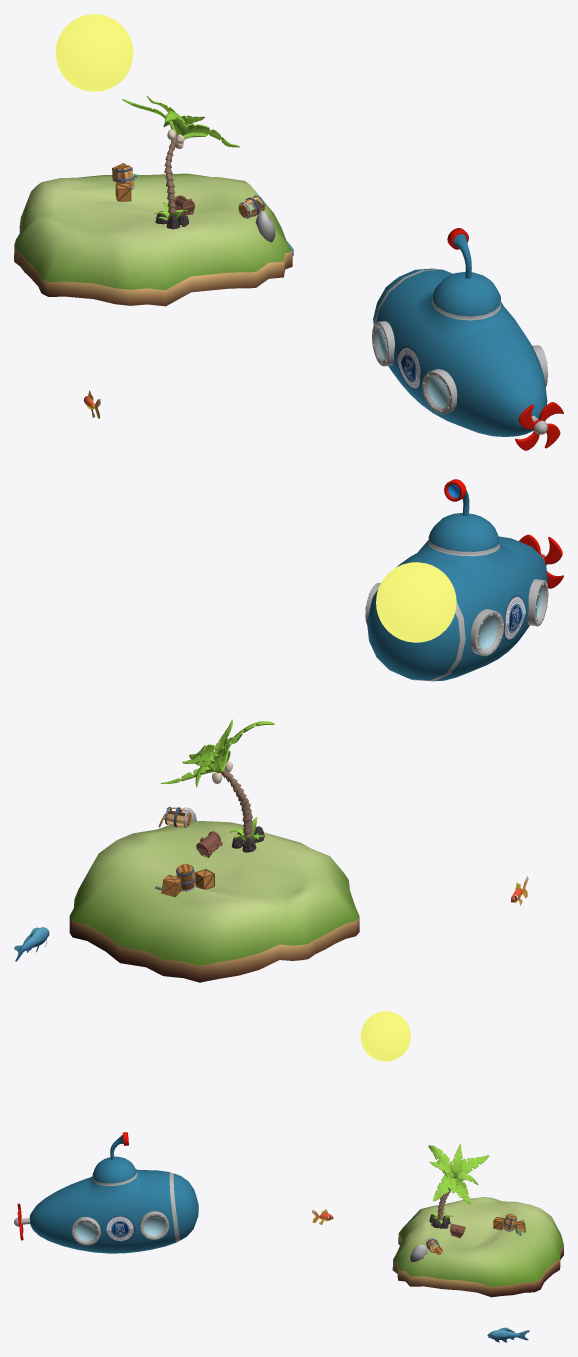
Rendered from ocean.glb.
3 views of the same model, one above another, from view 1: azimuth 30°, elevation 25°; view 2: azimuth 150°, elevation 25°; view 3: azimuth 270°, elevation 25° (orthographic). The views are drawn at different scales.
Parts seen in each view (by area): view 1: island_malem, submarine2, Object_2.001; view 2: island_malem, submarine2, Object_2.001; view 3: island_malem, submarine2, Object_2.001.
Part boxes in pixels (<box>): island_malem: <box>14,96,292,306</box>; submarine2: <box>372,228,563,450</box>; Object_2.001: <box>55,14,133,91</box>; island_malem: <box>69,719,359,982</box>; submarine2: <box>365,479,563,681</box>; Object_2.001: <box>376,562,456,642</box>; island_malem: <box>392,1143,563,1297</box>; submarine2: <box>14,1132,198,1253</box>; Object_2.001: <box>360,1011,410,1061</box>.
Bounding box in the file's own units: 15.75 × 16.55 × 34.3.
20 materials, 8 textured.
